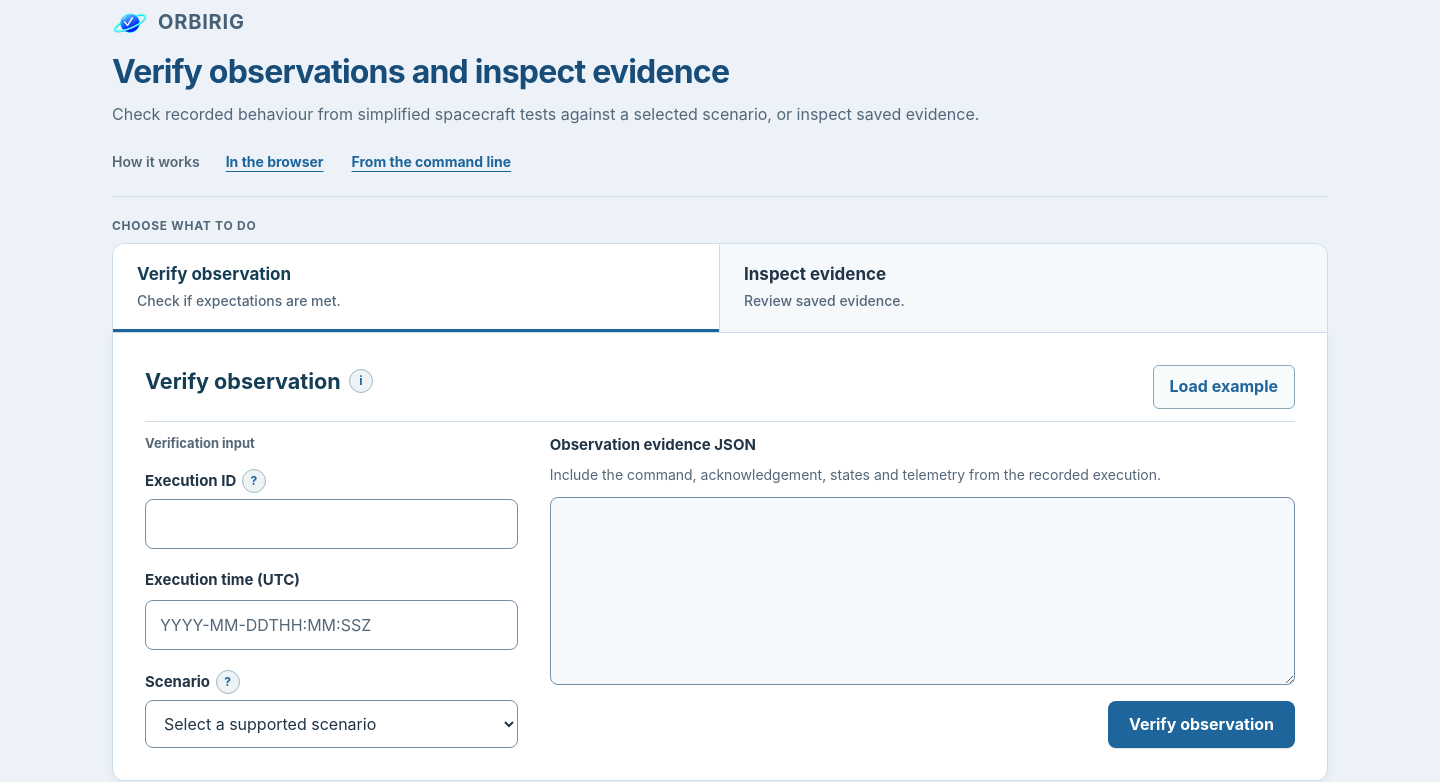
App inspection › preserves inspection input and reconstructed state while switched away
Click the button with aria-label "Show Inspect evidence": [815, 274] box [720,244,1327,332]
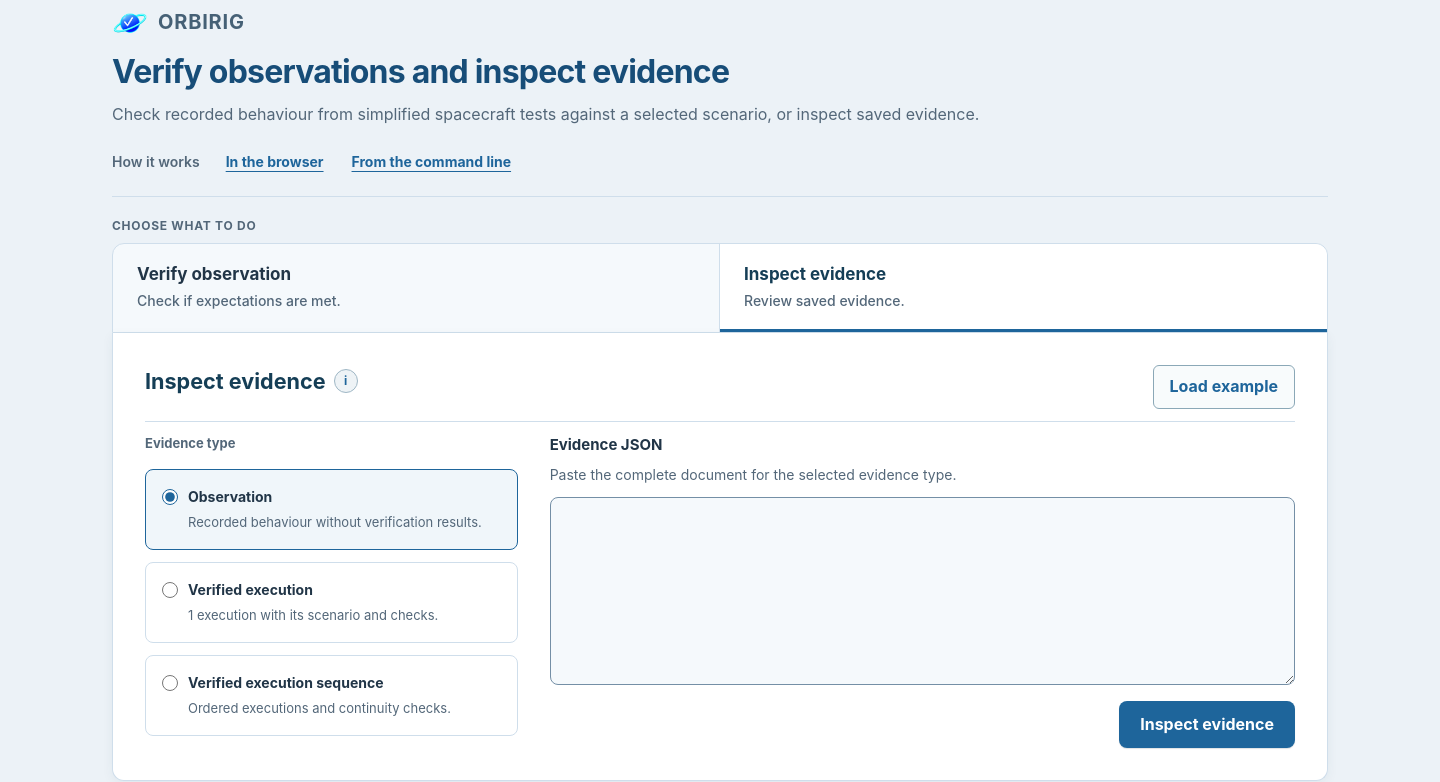
In the text box labelled "Evidence JSON": [922, 591] box [550,497,1295,685], type "preserved evidence"
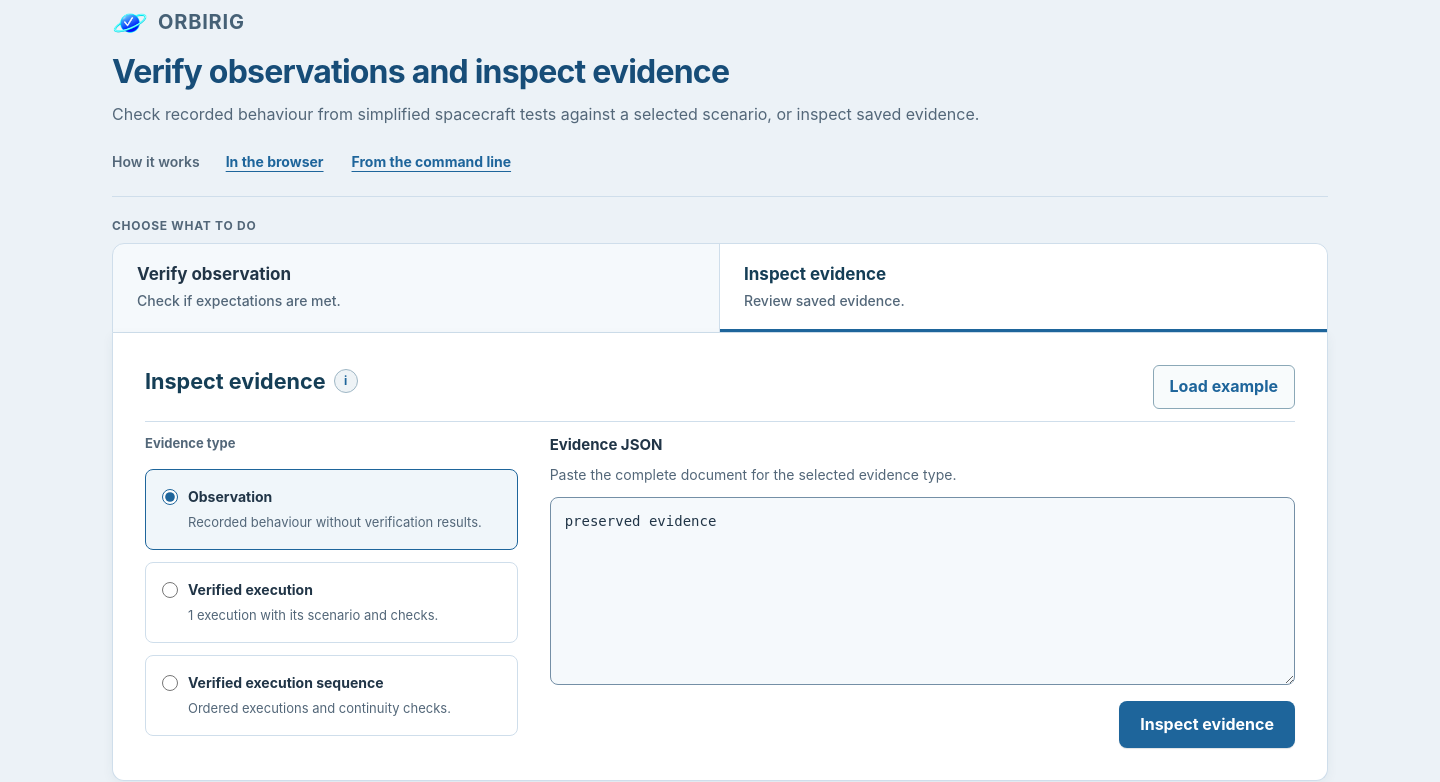
Click the button "Inspect evidence": [1207, 724] box [1119,701,1295,748]
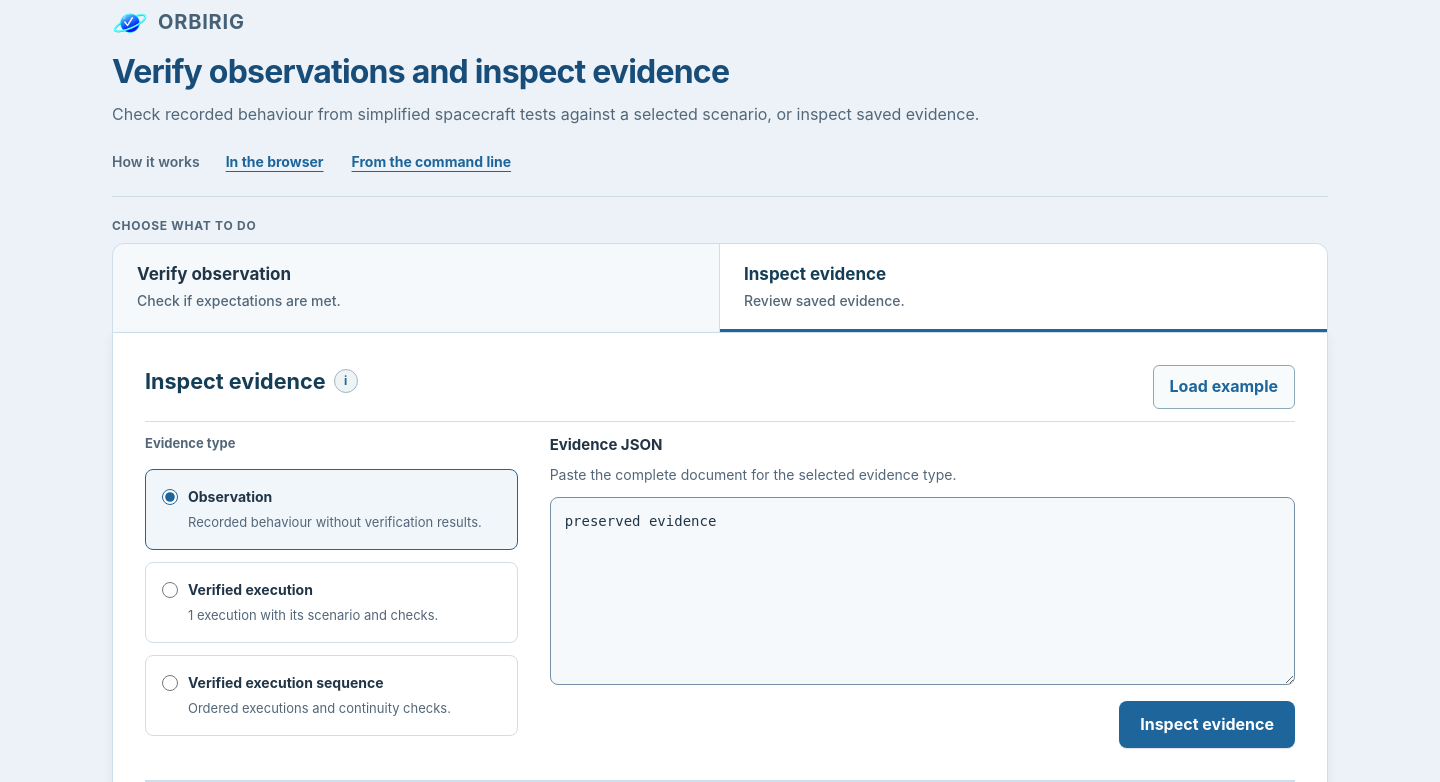
Click the button with aria-label "Show Verify observation": [214, 274] box [113,244,720,332]
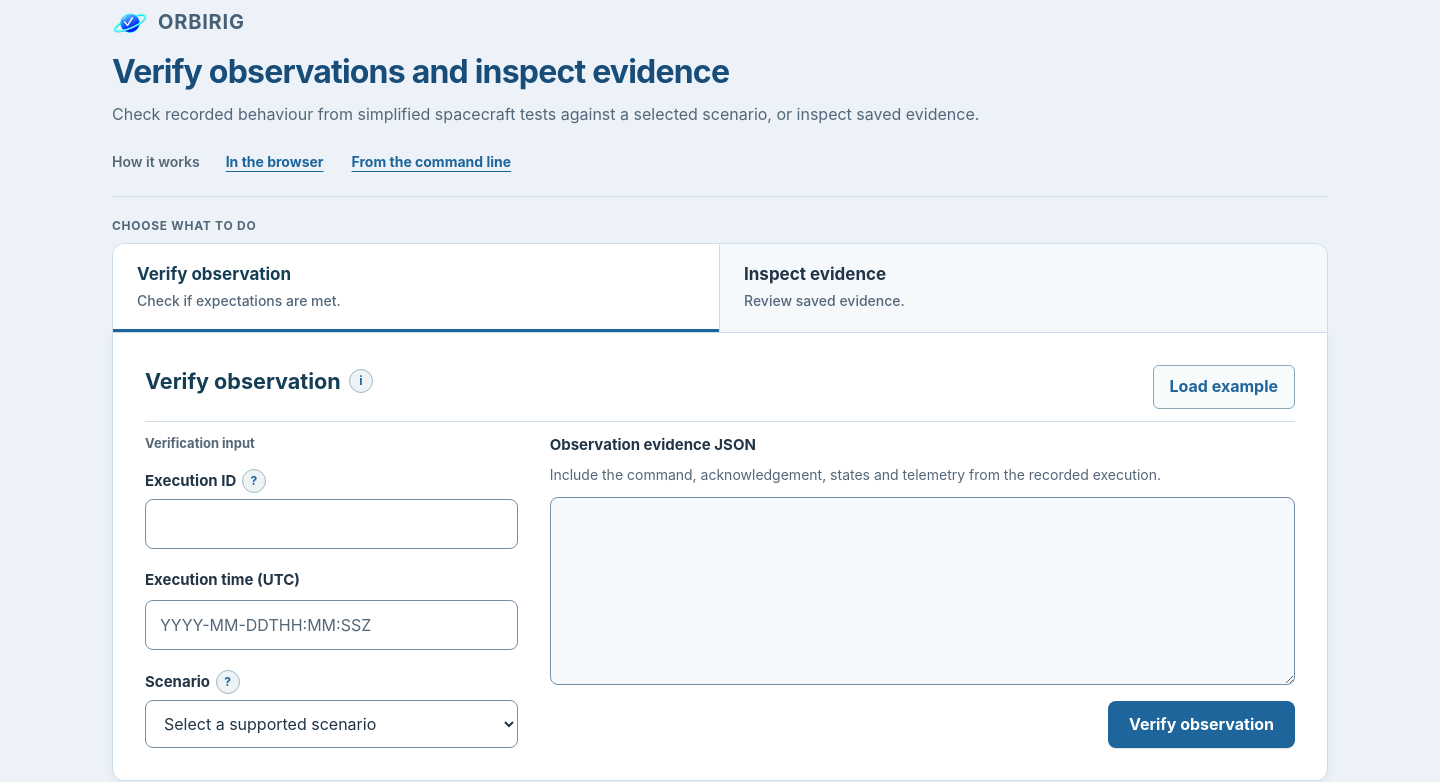
Click the button with aria-label "Show Inspect evidence": [815, 274] box [720,244,1327,332]
(page scrolled)
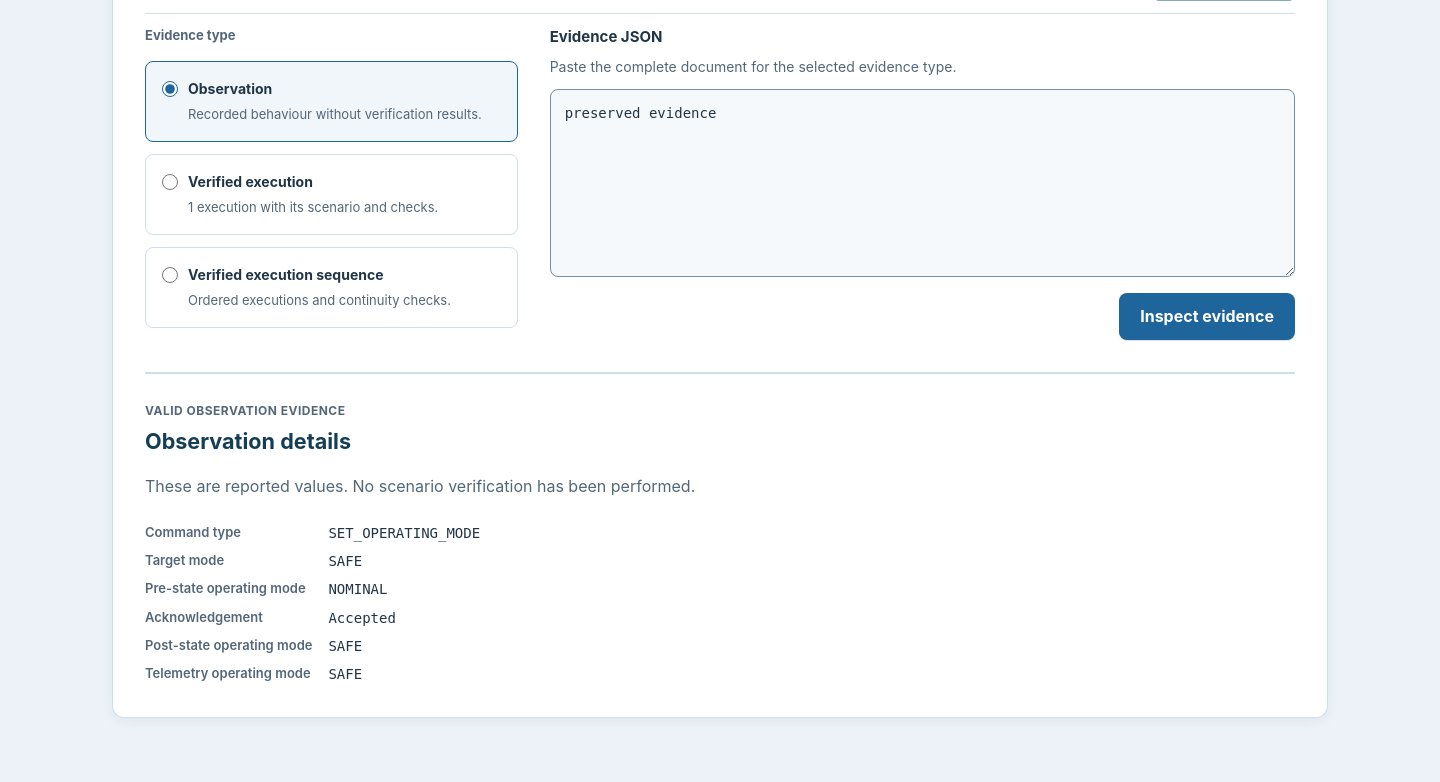
Result: the text box labelled "Evidence JSON" holds "preserved evidence" at [550,89,1295,277]
Result: the heading "Observation details" is shown at [145,425,351,458]
